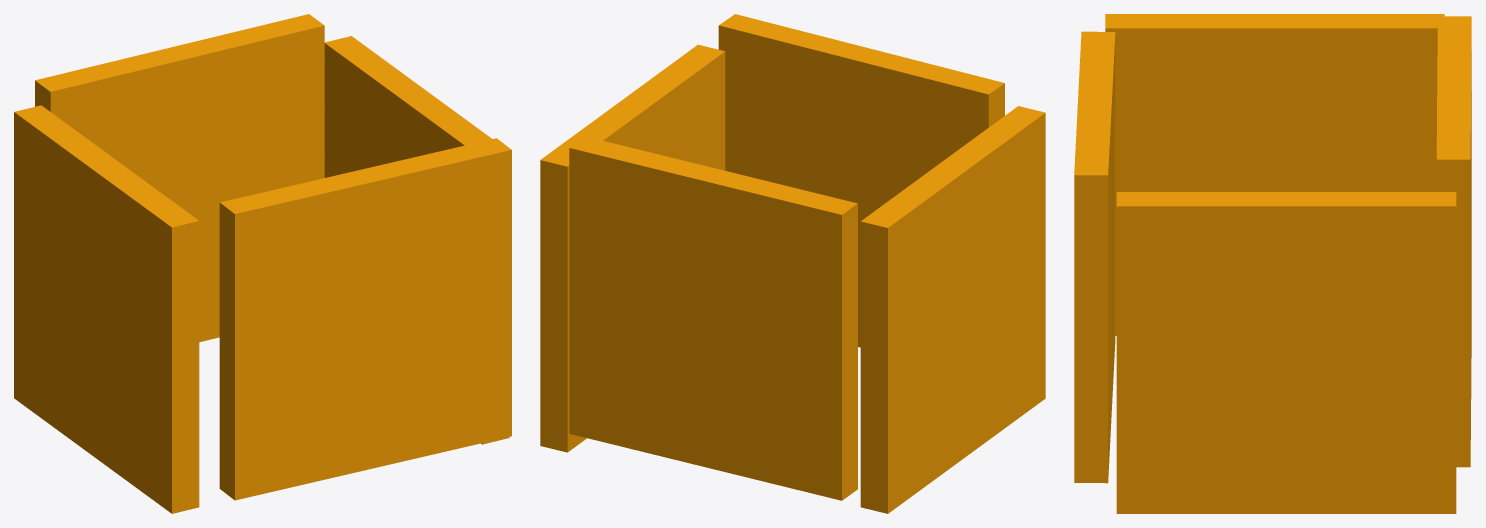
The picture shows the model from 3 angles, left to right: view 1: azimuth 30°, elevation 25°; view 2: azimuth 150°, elevation 25°; view 3: azimuth 270°, elevation 25°; orthographic projection. The views are drawn at different scales.
Bounding box in the file's own units: 12.53 × 10.9 × 11.71.
